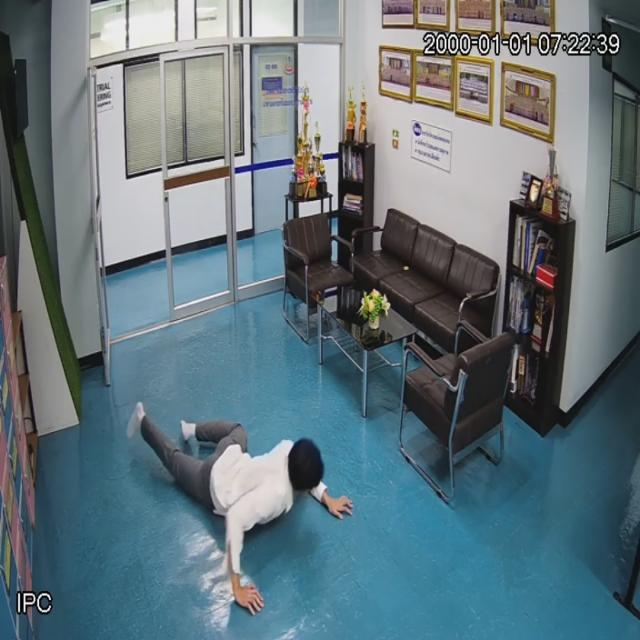fall: (130, 408, 336, 585)
